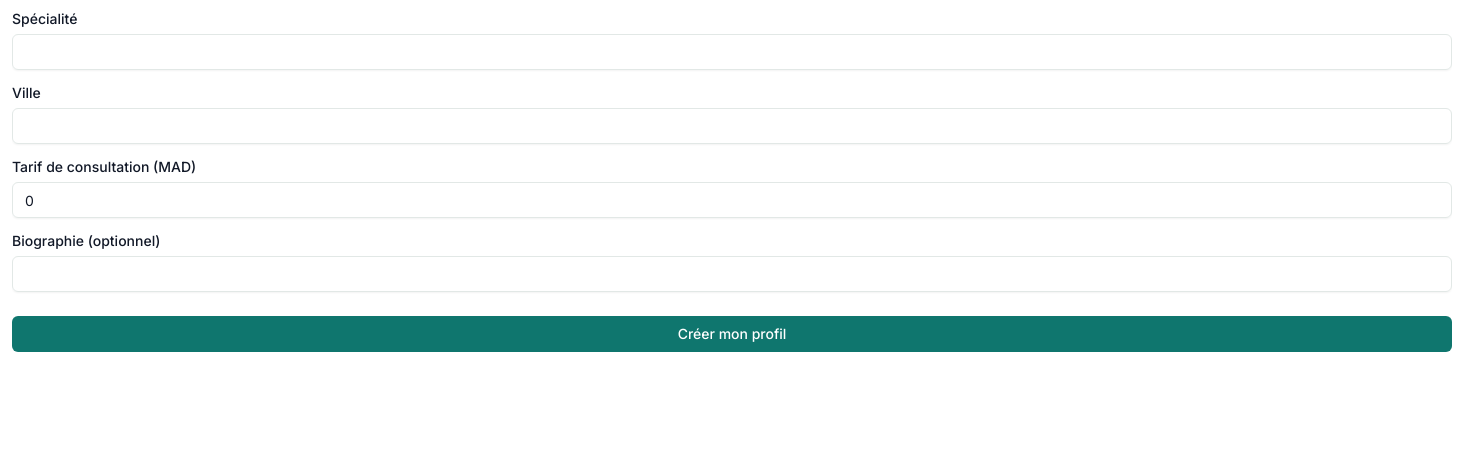
Test: DoctorProfileForm › rejects an empty specialty and city
The image size is (1464, 453).
Click the button "Créer mon profil".
click(732, 334)  # box [12,316,1452,352]
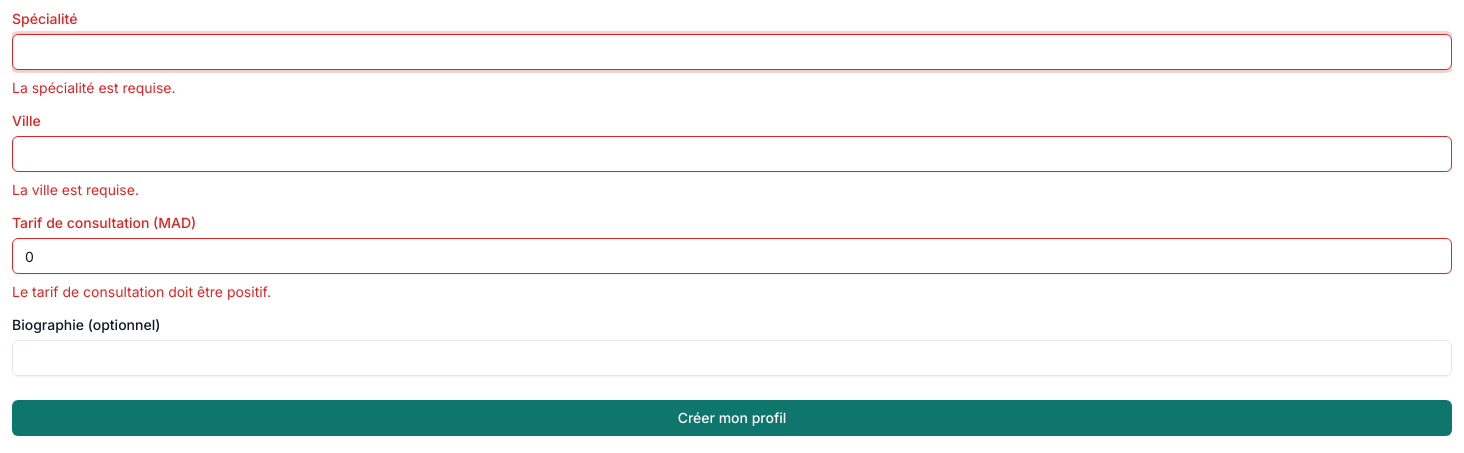
Check: the text "La spécialité est requise." is shown, box [12,79,176,96]
Check: the text "La ville est requise." is shown, box [12,181,139,198]
